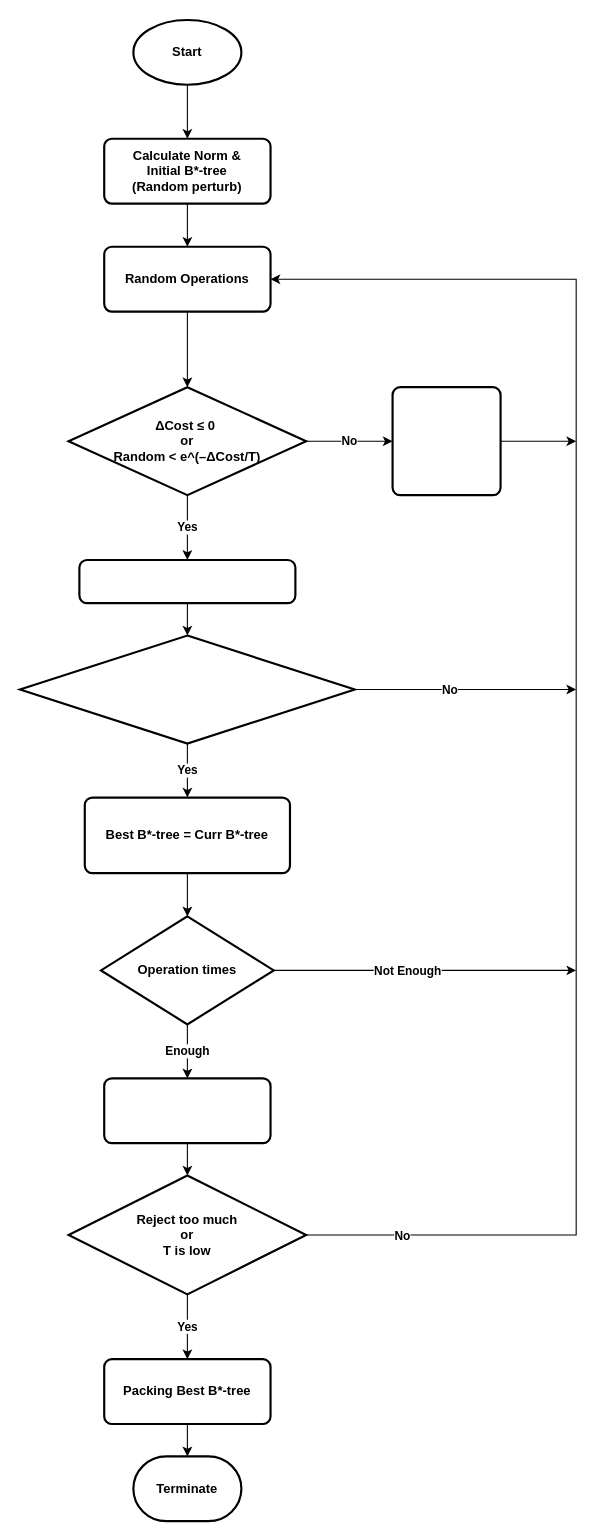
This 604x1540 diagram has some shape labels left out. Here are the shapes that lost their labels. From the top down, the centre of each, then its label:
At (446,441): "Reject & Undo (Recover)".
At (187,581): "Prev B*-tree = Curr B*-tree".
At (186,689): "Cost(Curr B*-tree) < Cost(Best B*-tree)".
At (187,1110): "T = r*T".
